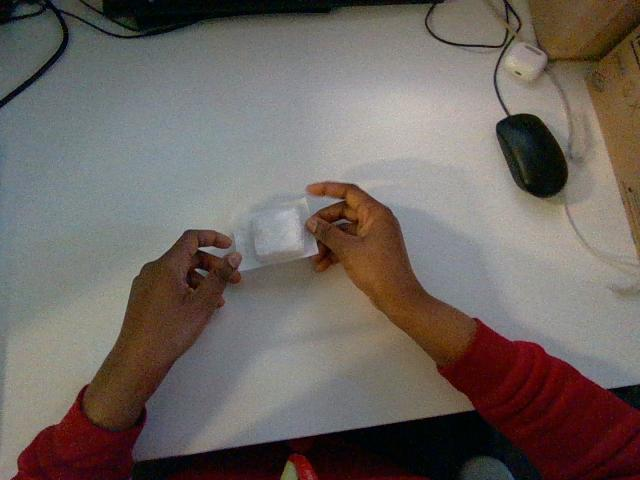gauze: (233, 198, 317, 270)
